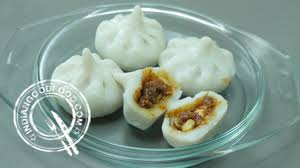modak: (153, 30, 247, 99), (99, 1, 174, 72), (52, 51, 130, 116)
